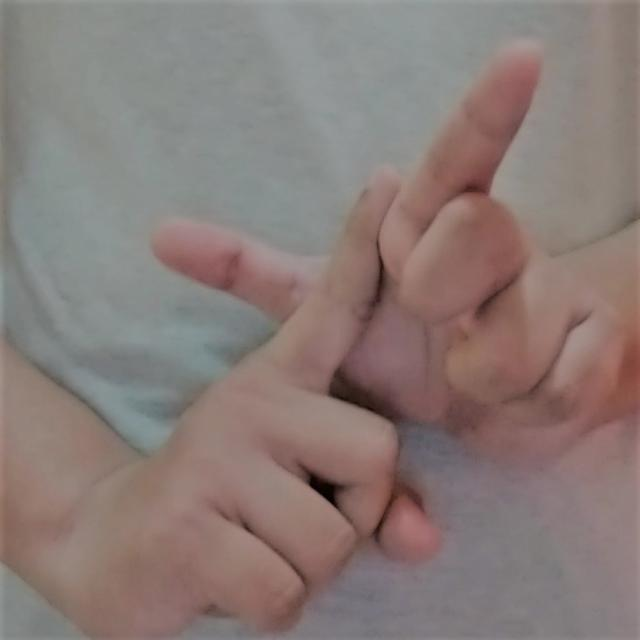Y: (137, 31, 629, 640)
